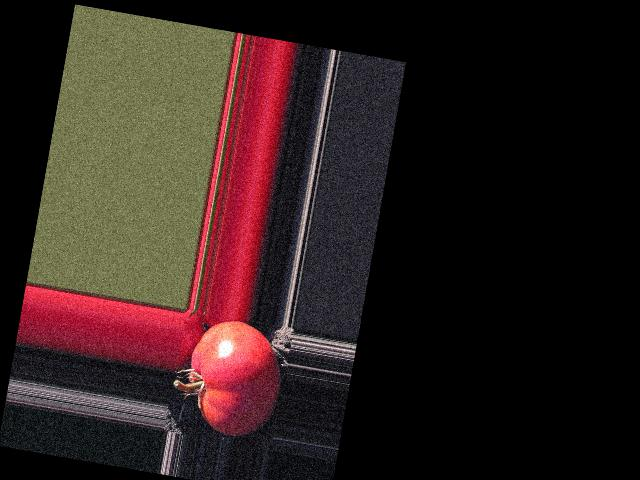tomato: (180, 315, 290, 442)
